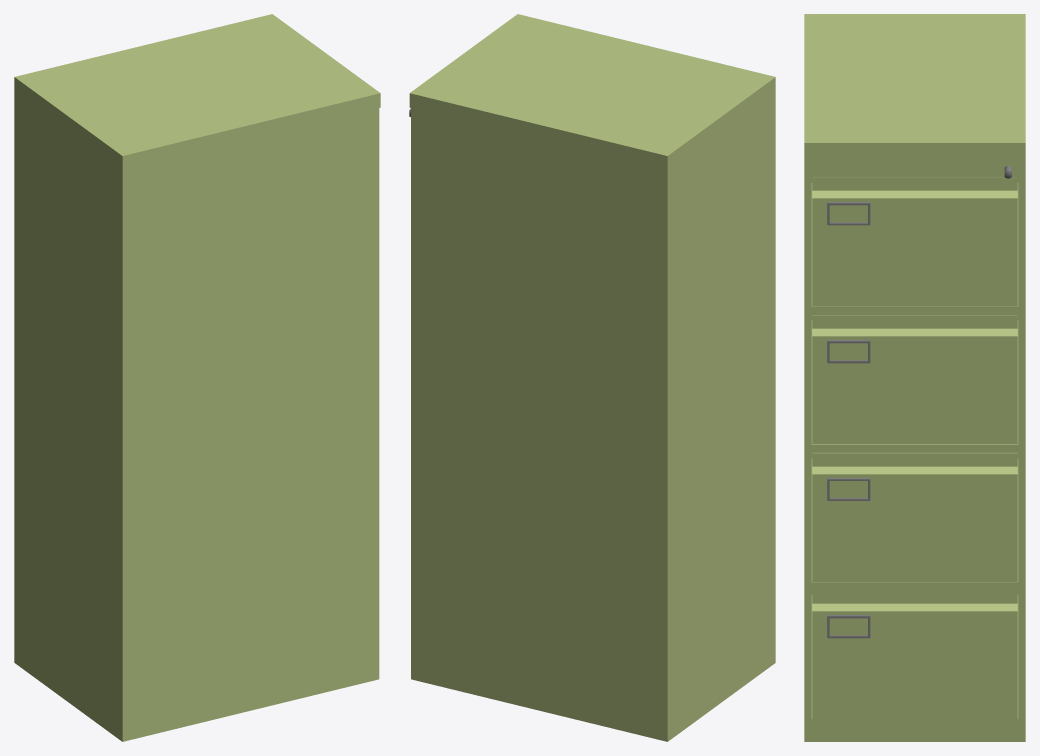
File: Filing_cabinet.dae
3 views of the same model, side by side, from view 1: azimuth 30°, elevation 25°; view 2: azimuth 150°, elevation 25°; view 3: azimuth 270°, elevation 25° (orthographic). The views are drawn at different scales.
Parts seen in each view (by area): view 1: Filing_Cabinete; view 2: Filing_Cabinete; view 3: Filing_Cabinete.
Boxes of the visible parts, box(x1,y1,x2,y2) form: Filing_Cabinete: box(14, 14, 380, 741); Filing_Cabinete: box(409, 14, 775, 741); Filing_Cabinete: box(804, 14, 1025, 741).
Size of the model in its own units: 0.63 by 0.445 by 1.33.
